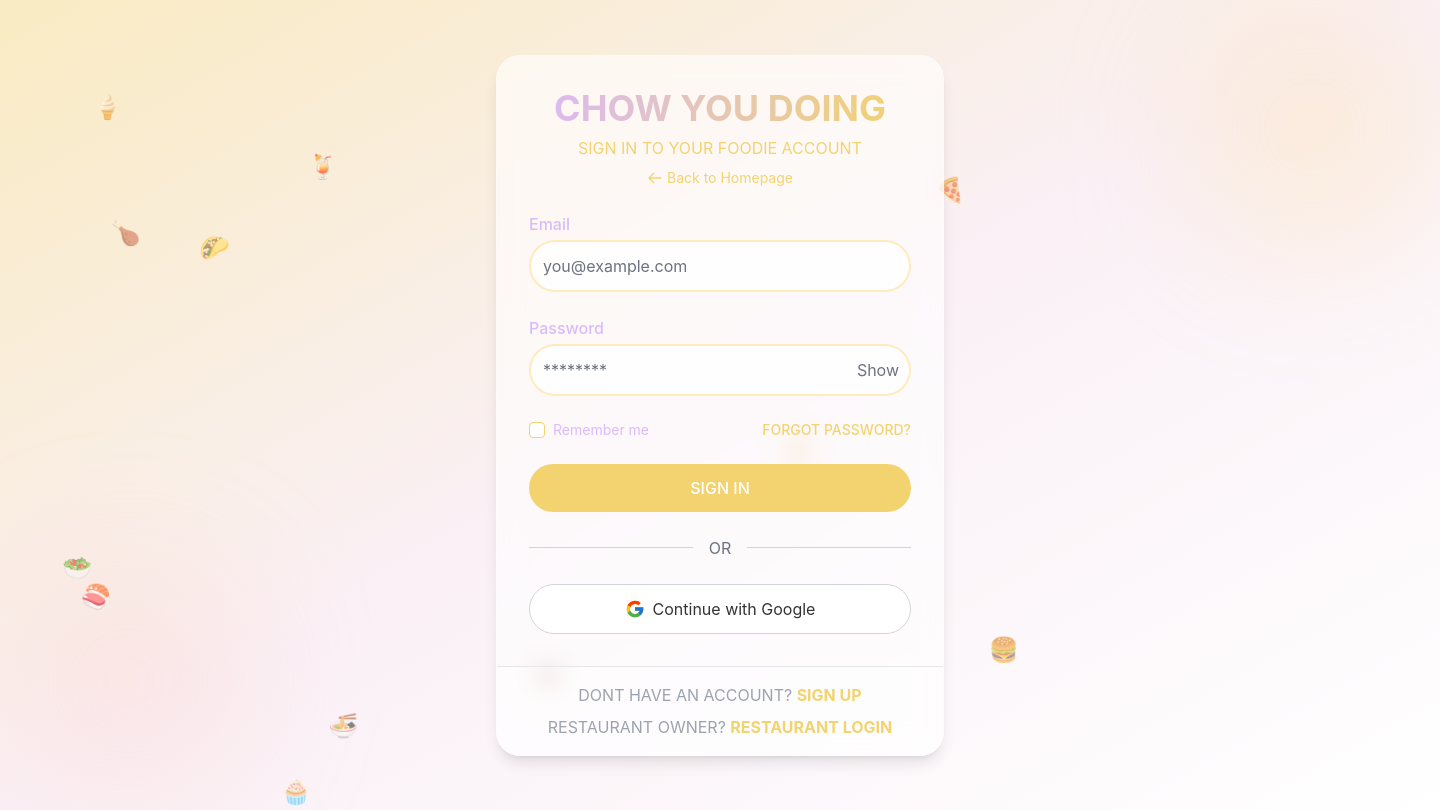
Test case: Login Page › shows error message on failed login
The image size is (1440, 810).
In the field labelled "Email": (720,266) [529,240,911,292], type "test@example.com"
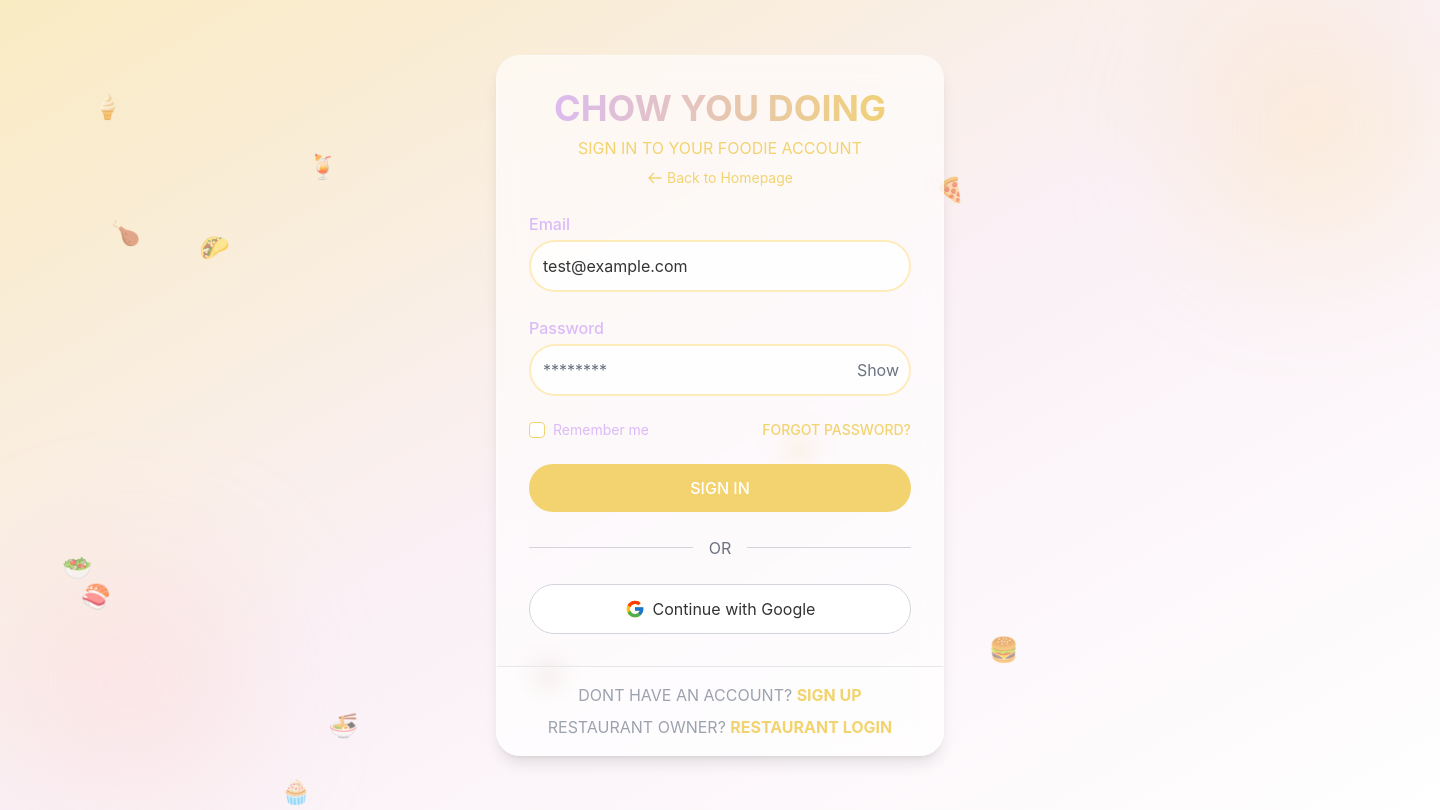
In the password field labelled "Password": (720,370) [529,344,911,396], type "wrongpassword"
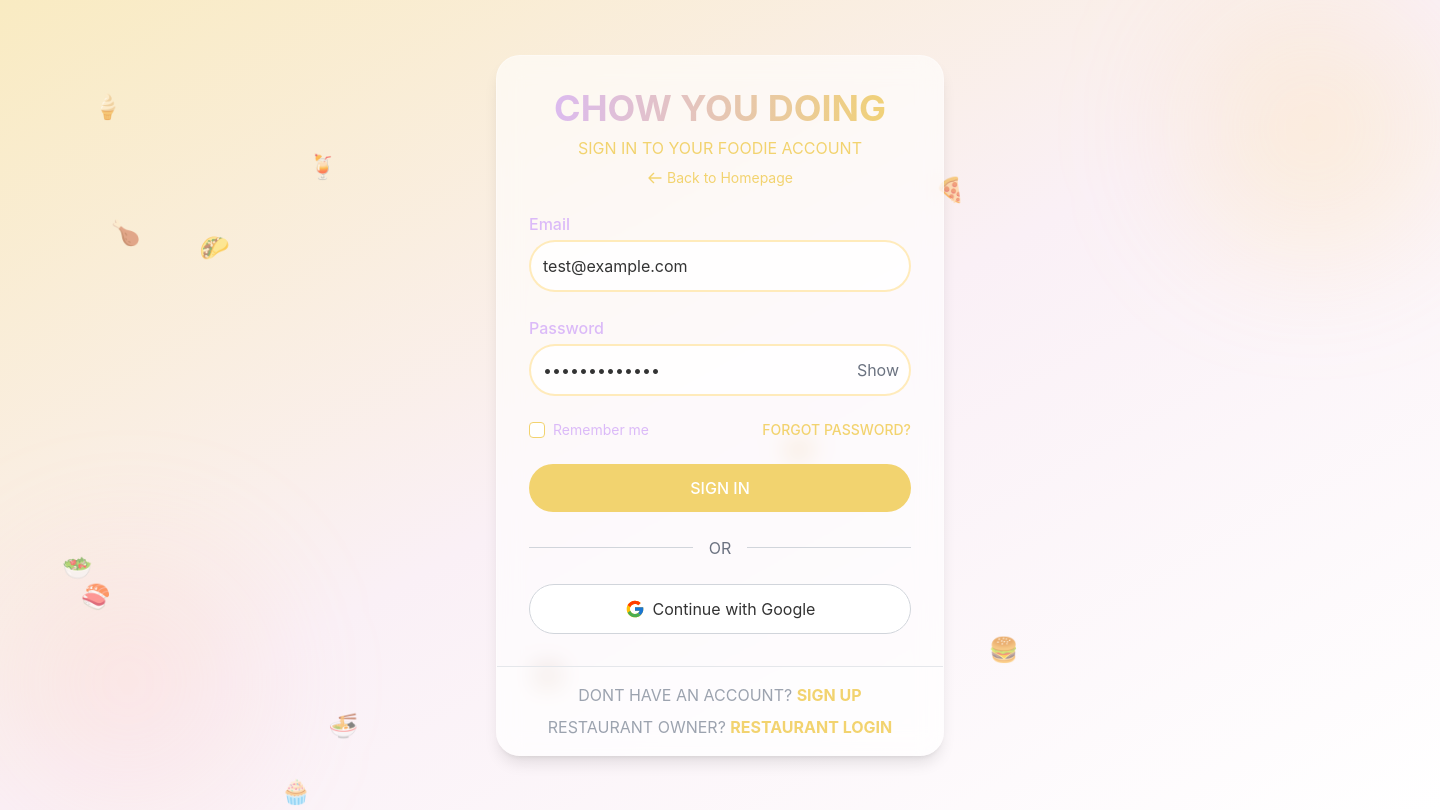
Click the button "SIGN IN": (720,488) [529,464,911,512]
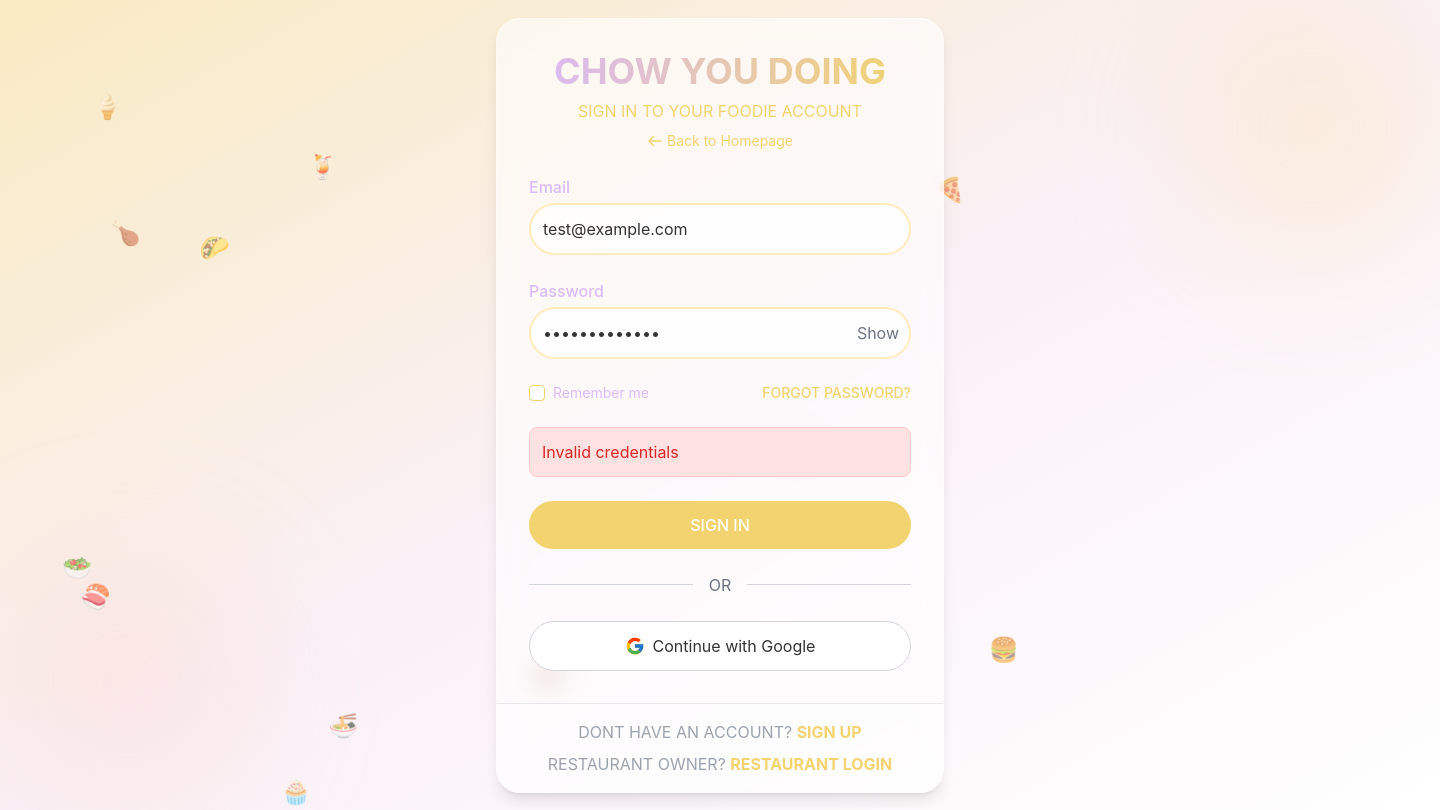
Expected: the text "Invalid credentials" is shown, [529,426,911,476]
